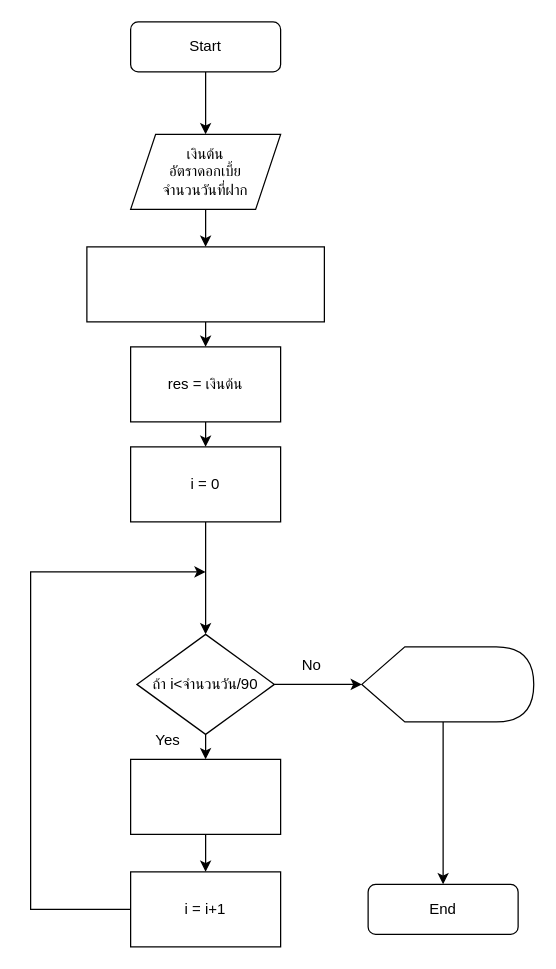
This 556x969 diagram has some shape labels left out. The shapes that lost their labels are listed below. From the top down, each one's centre as x and y in pixels, then its label:
At (205,284): "interest = อัตราดอกเบี้ย/100 + 1".
At (447,684): "แสดงผลค่า res".
At (205,796): "res = res*interest".
